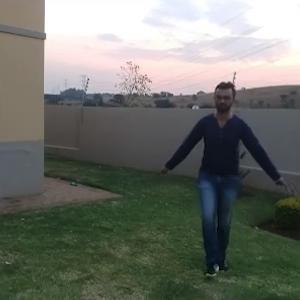land: (165, 82, 288, 273)
